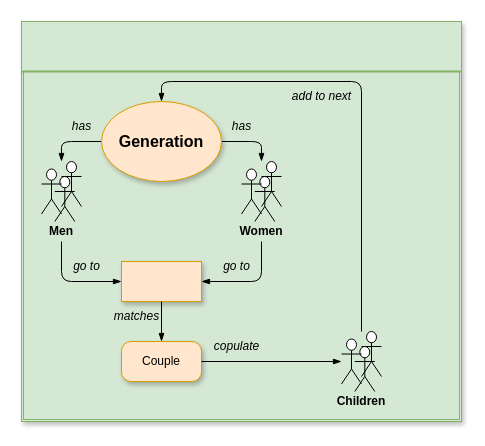
Image size: 485x446. Some labels were removed from this diagram. Each missing label, with the centre of its shape:
Counselor: (162,282)
Emulator: (241,46)
